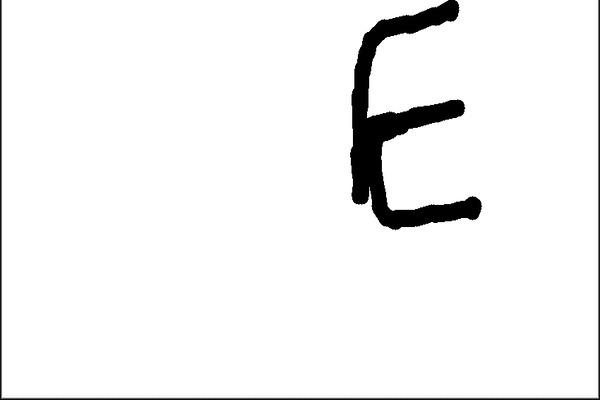E: (340, 0, 495, 233)
